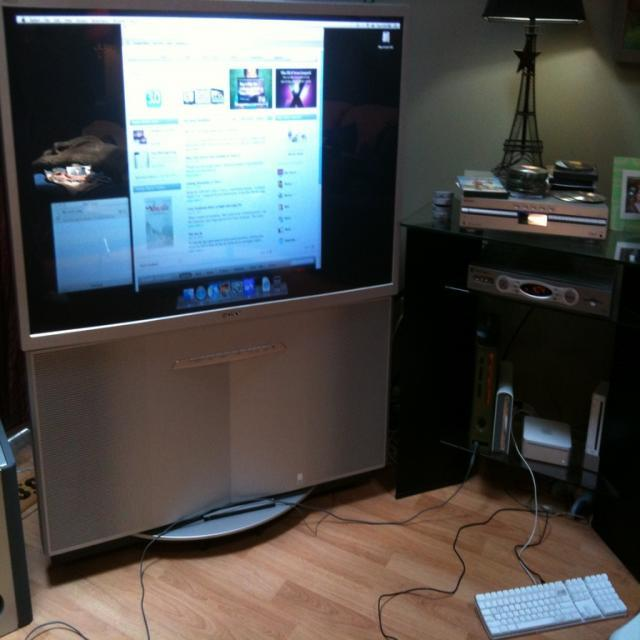others: (1, 3, 422, 600)
